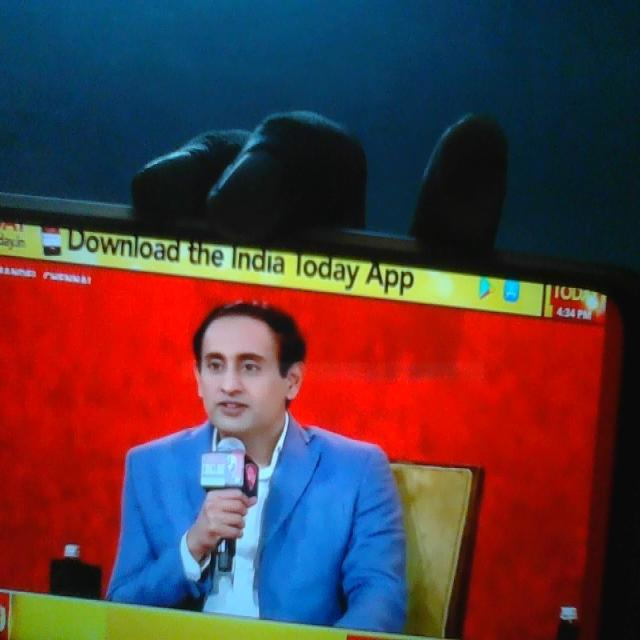fake: (196, 275, 293, 457)
